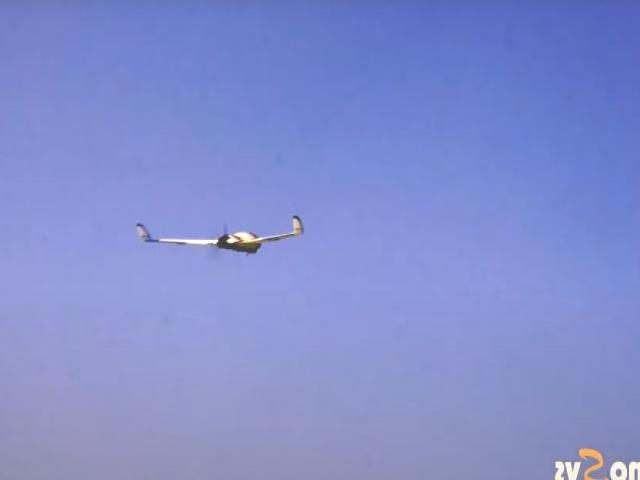iha: (130, 212, 312, 258)
